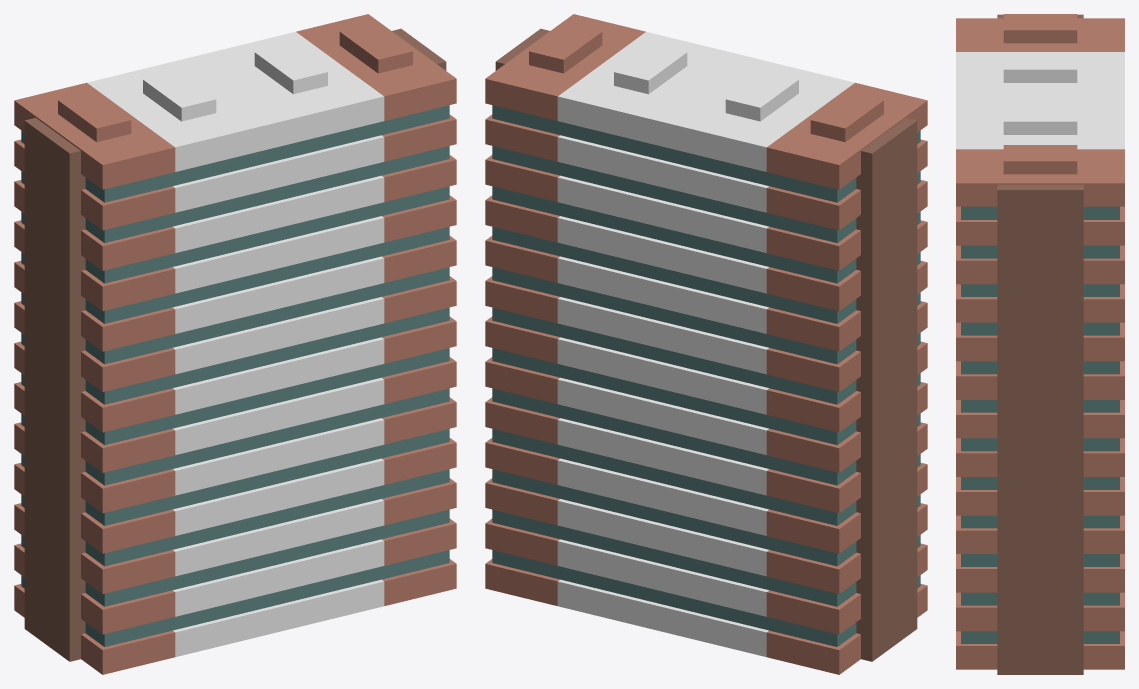
Rendered from Town_Bld-Lrg_BuildingA.FBX.
3 views of the same model, side by side, from view 1: azimuth 30°, elevation 25°; view 2: azimuth 150°, elevation 25°; view 3: azimuth 270°, elevation 25° (orthographic). The views are drawn at different scales.
Parts seen in each view (by area): view 1: Town_Bld-Lrg_BuildingA; view 2: Town_Bld-Lrg_BuildingA; view 3: Town_Bld-Lrg_BuildingA.
Boxes of the visible parts, box(x1,y1,x2,y2) form: Town_Bld-Lrg_BuildingA: box(14, 14, 456, 674); Town_Bld-Lrg_BuildingA: box(485, 14, 927, 674); Town_Bld-Lrg_BuildingA: box(956, 14, 1124, 674).
Bounding box in the file's own units: 2068 × 2746 × 841.
